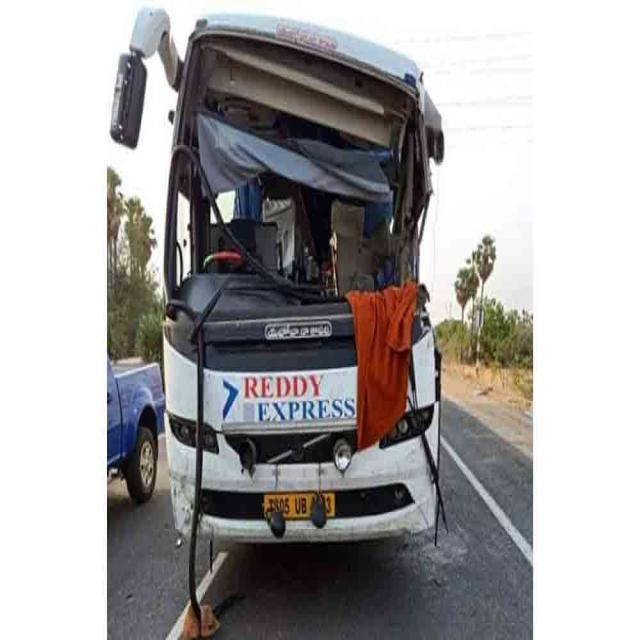accident: (110, 8, 445, 634)
